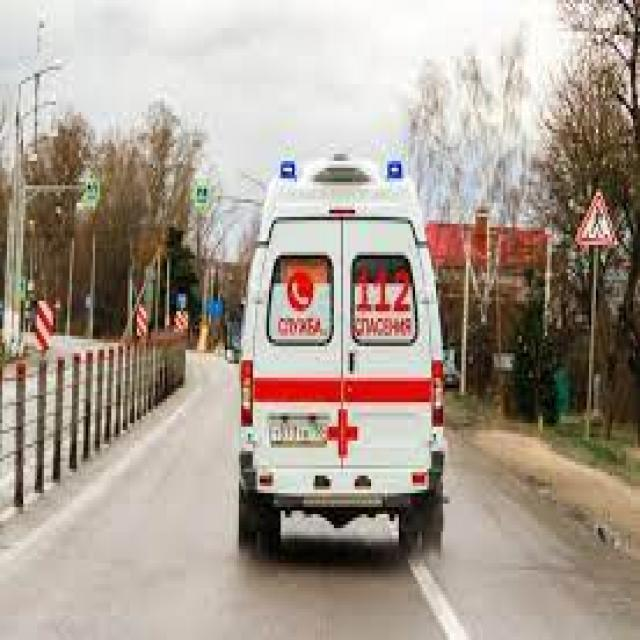emergency-vehicle: (218, 140, 473, 549)
